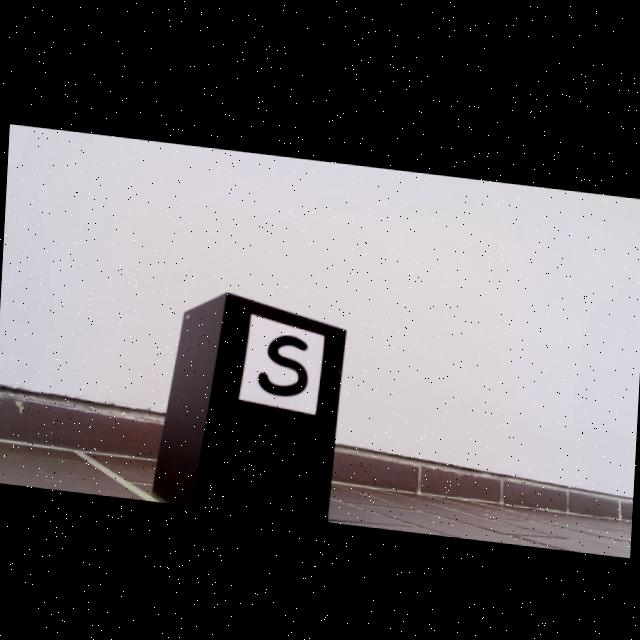S: (258, 331, 309, 395)
